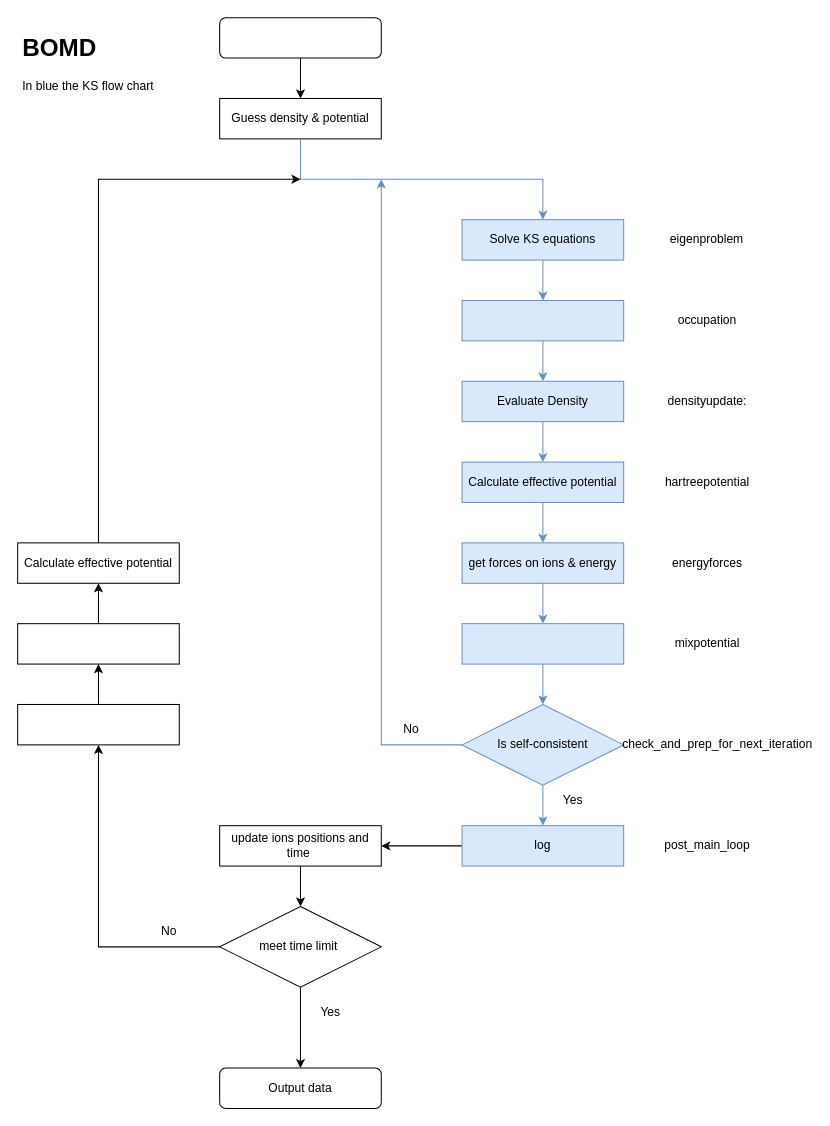
The diagram is 830 pixels wide and 1126 high, and some of its shapes have lost their labels. Here are the shapes that lost their labels. From the top down, the centre of each, then its label:
At (x=300, y=37): "start Initial conditions".
At (x=542, y=320): "Occupation: Fermi level".
At (x=98, y=643): "Evaluare Densty".
At (x=542, y=643): "Mix potential".
At (x=98, y=724): "predict the wave function".
